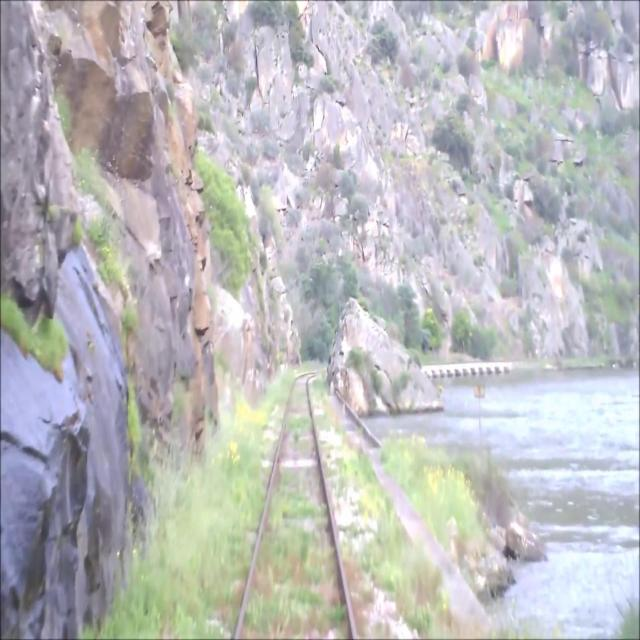rail-track: (238, 377, 352, 639)
